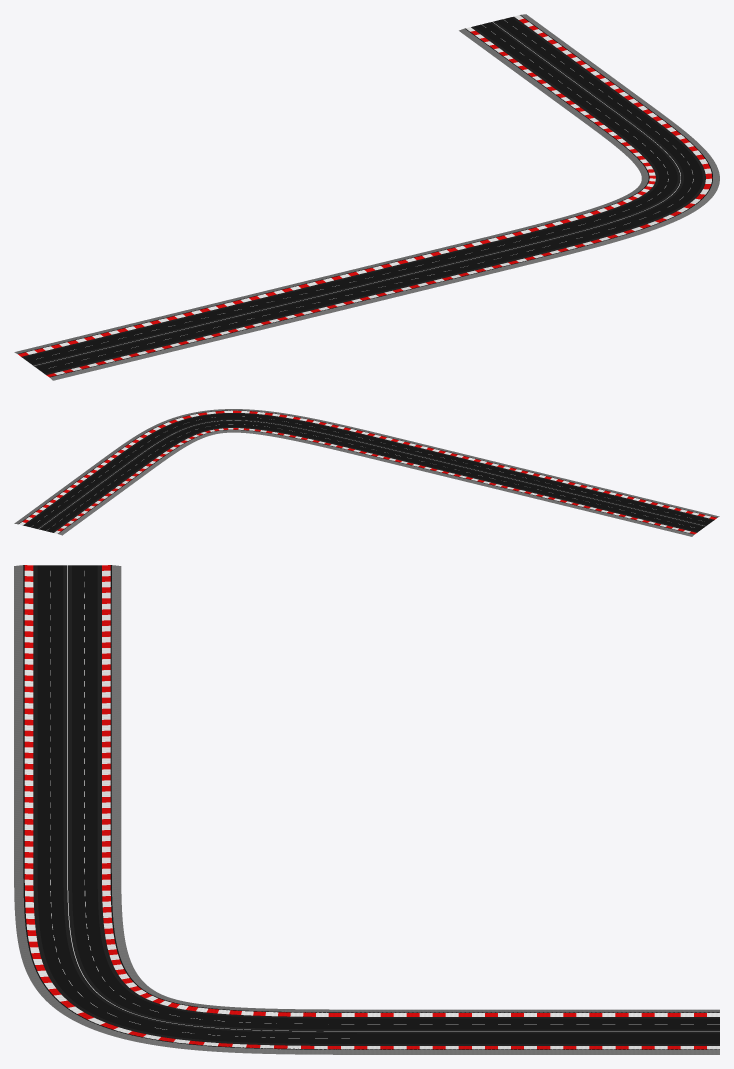
3 views of the same model, one above another, from view 1: azimuth 30°, elevation 25°; view 2: azimuth 150°, elevation 25°; view 3: azimuth 270°, elevation 25° (orthographic). The views are drawn at different scales.
Parts seen in each view (by area): view 1: Grid; view 2: Grid; view 3: Grid.
Part boxes in pixels (x1,y1,x2,y2): Grid: (14, 14, 719, 380); Grid: (14, 409, 719, 536); Grid: (14, 565, 719, 1054).
Size of the model in its own units: 270 by 0.31 by 165.
